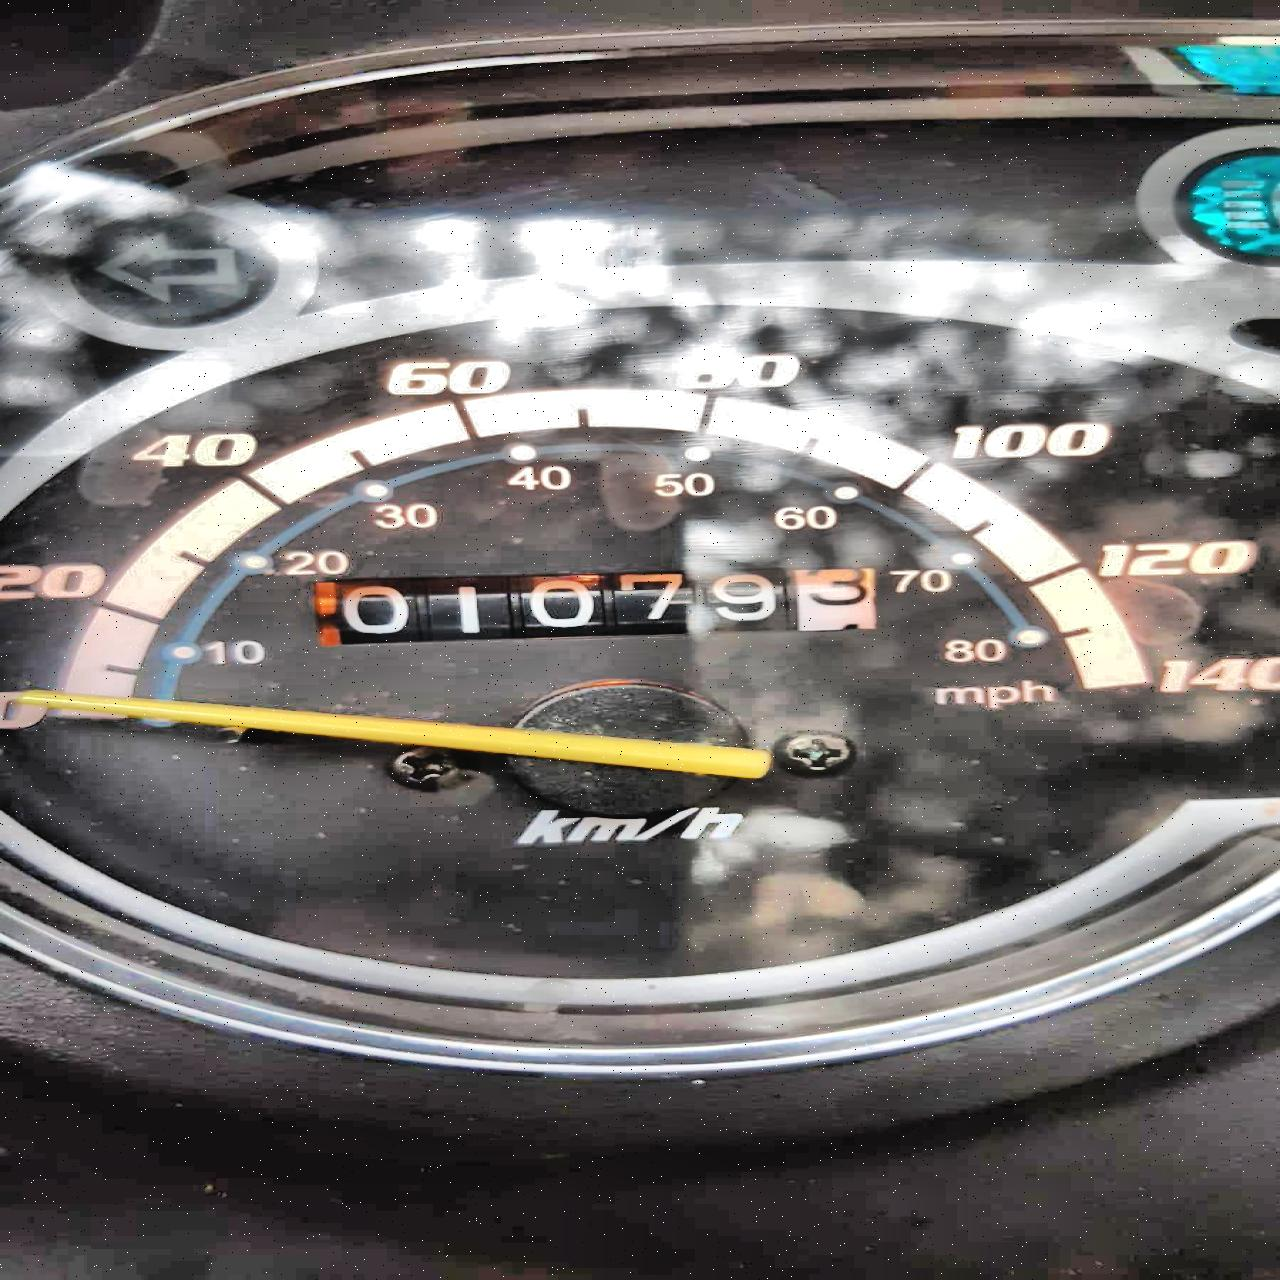0: (524, 577, 595, 629), (338, 584, 410, 635)
1: (444, 579, 491, 638)
3: (799, 566, 870, 607)
7: (614, 570, 686, 622)
9: (703, 570, 781, 622)
odometer: (307, 564, 880, 647)
